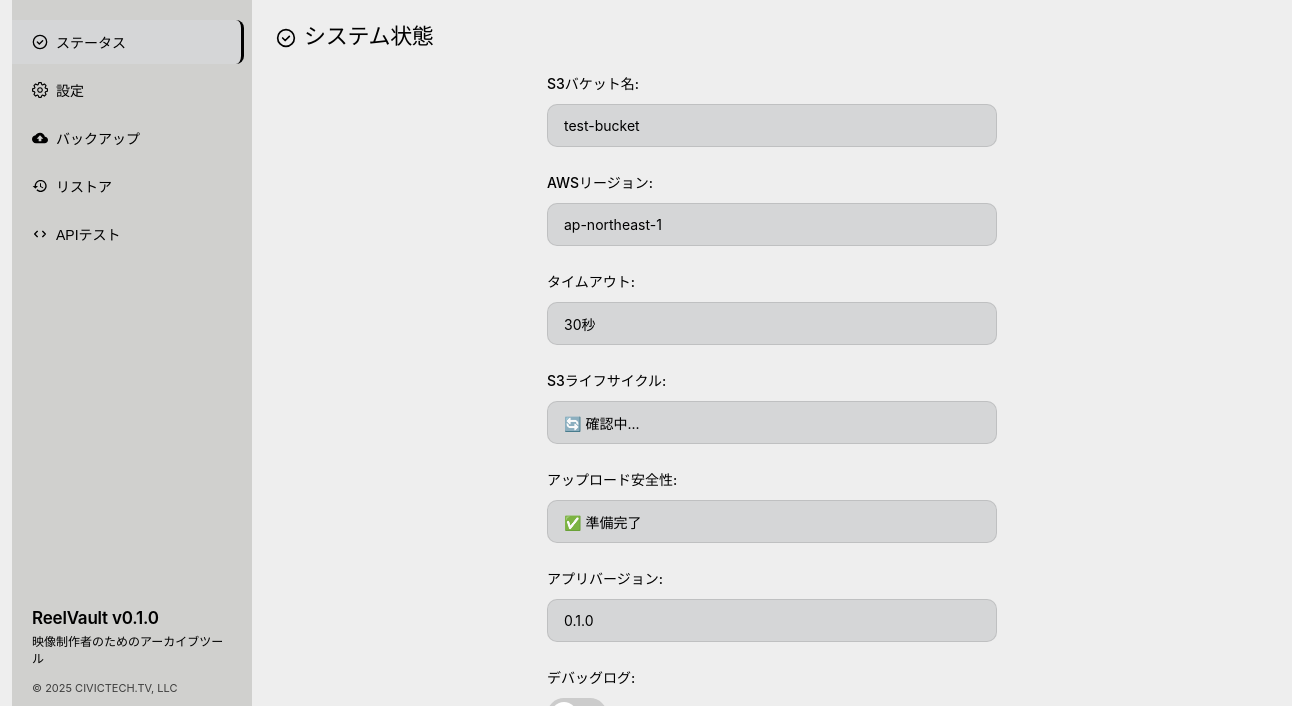
ConfigManager › should switch to settings tab when settings button is clicked
Click the button "設定". click: (128, 90)
box: x1=12 y1=68 x2=244 y2=112
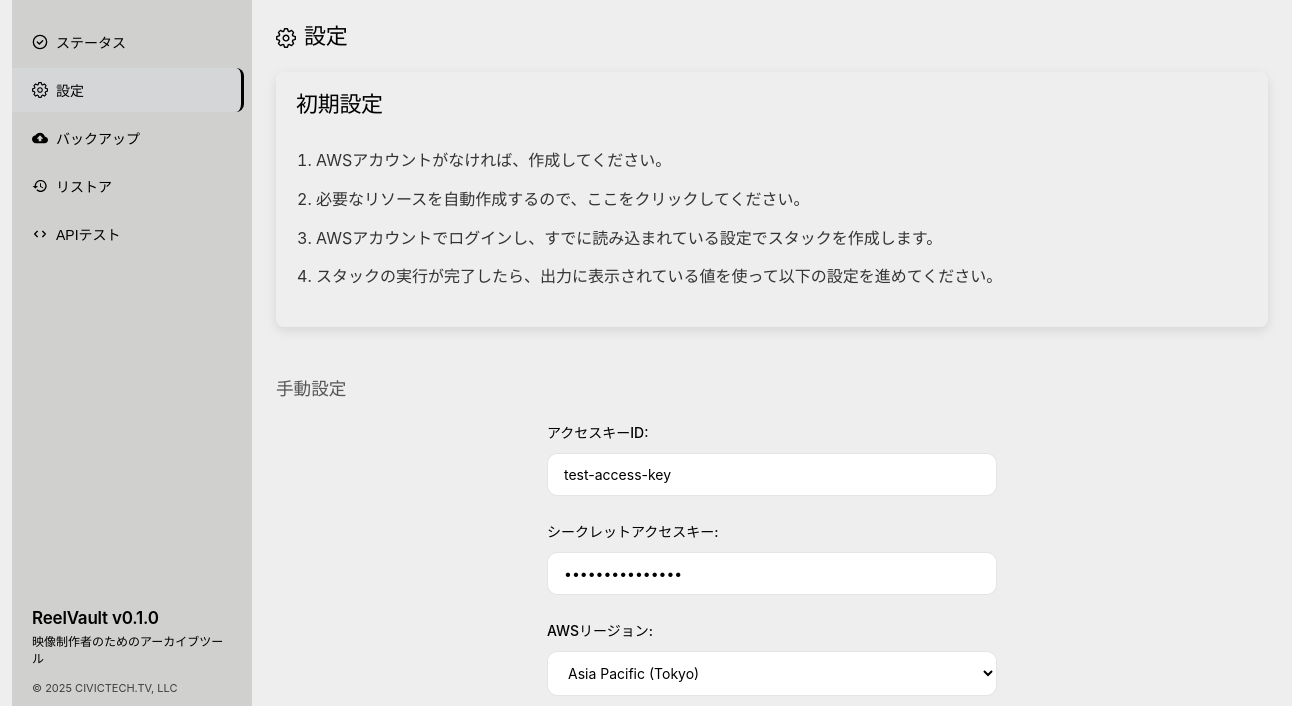
Check: the heading "手動設定" is shown, box x1=276 y1=378 x2=346 y2=399
Check: the text "アクセスキーID:" is shown, box x1=547 y1=424 x2=648 y2=441
